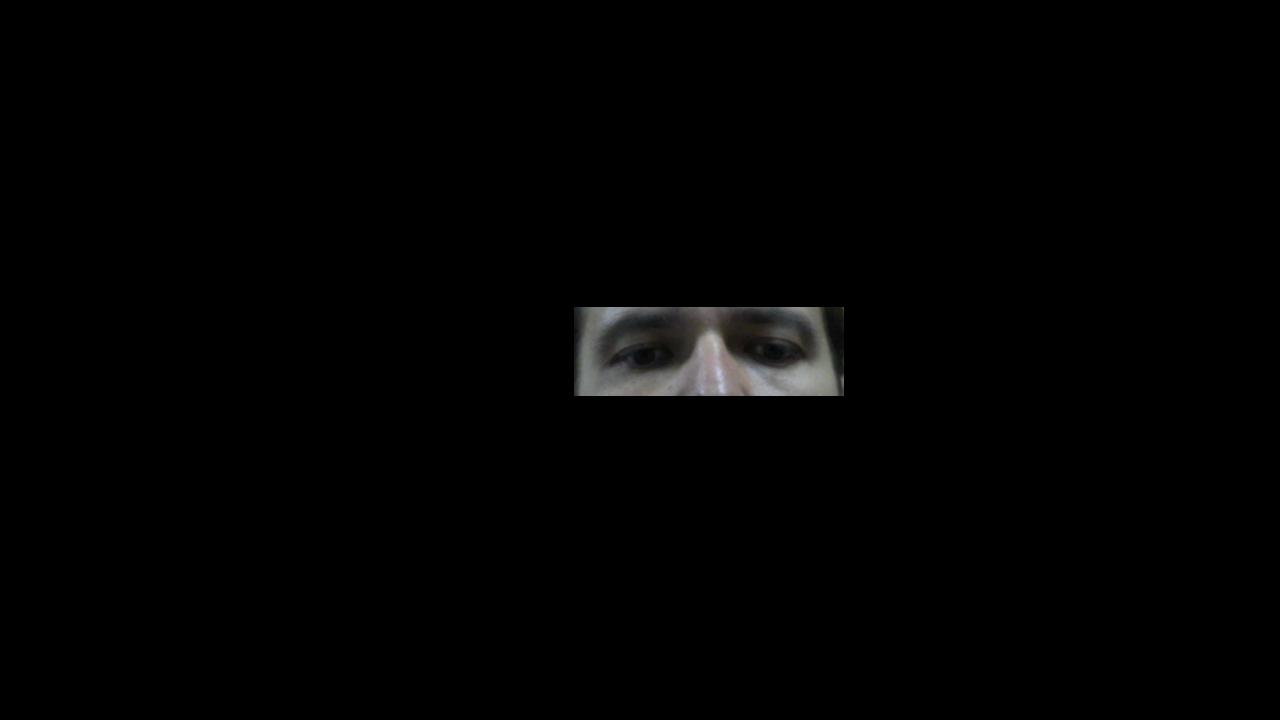eye: (631, 347, 657, 365), (764, 344, 787, 361)
